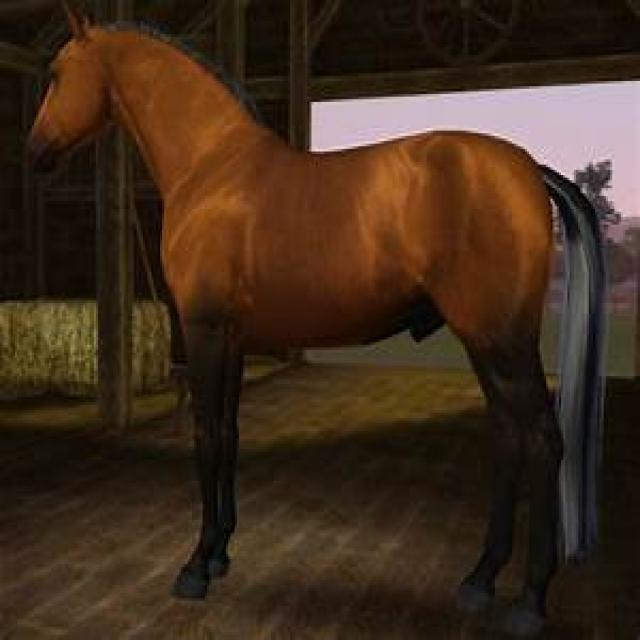animal: (21, 0, 606, 635)
